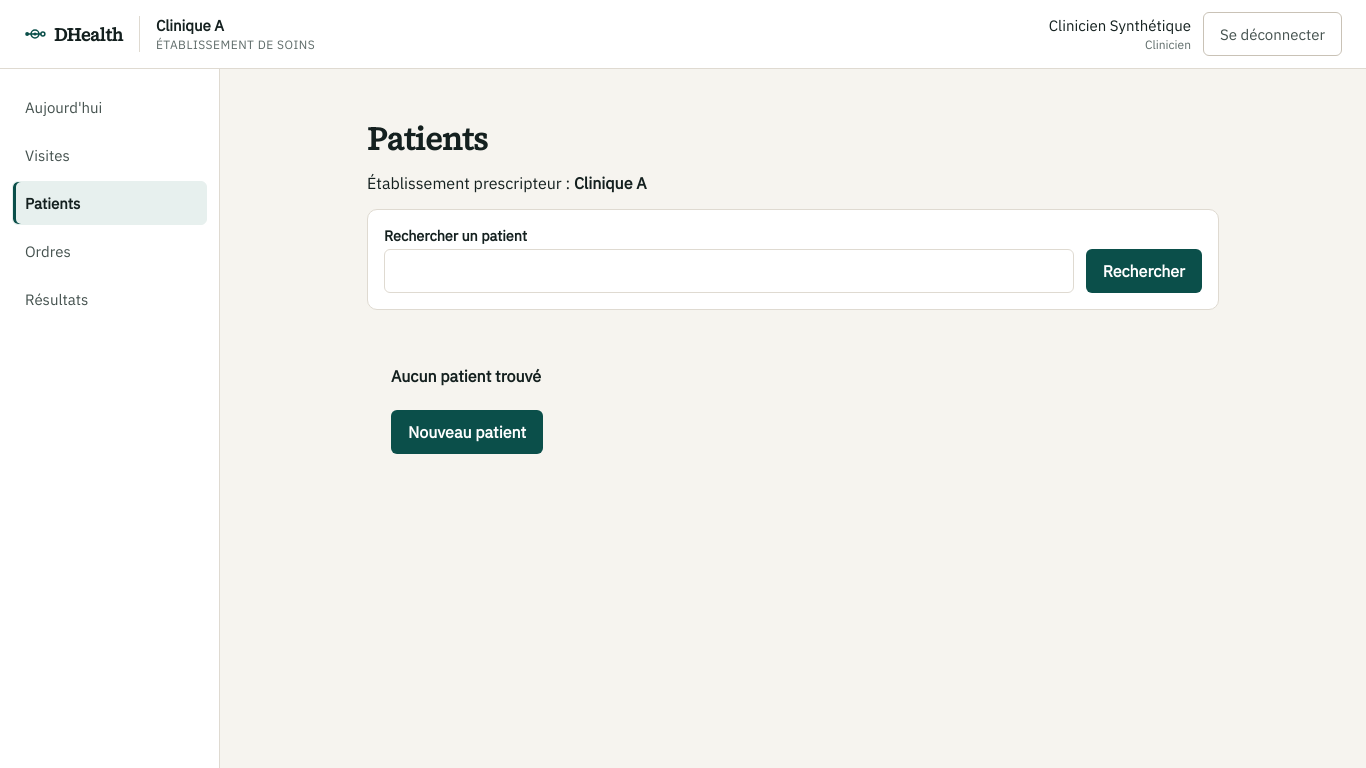
Test: Clinic native patient workflow › submits provider-local search text and renders the returned result
expect the text "Aucun patient trouvé" is shown: met, box [391, 366, 541, 386]
Type "Synthétique" into the search field labelled "Rechercher un patient" at [729, 271], box [384, 249, 1074, 293]
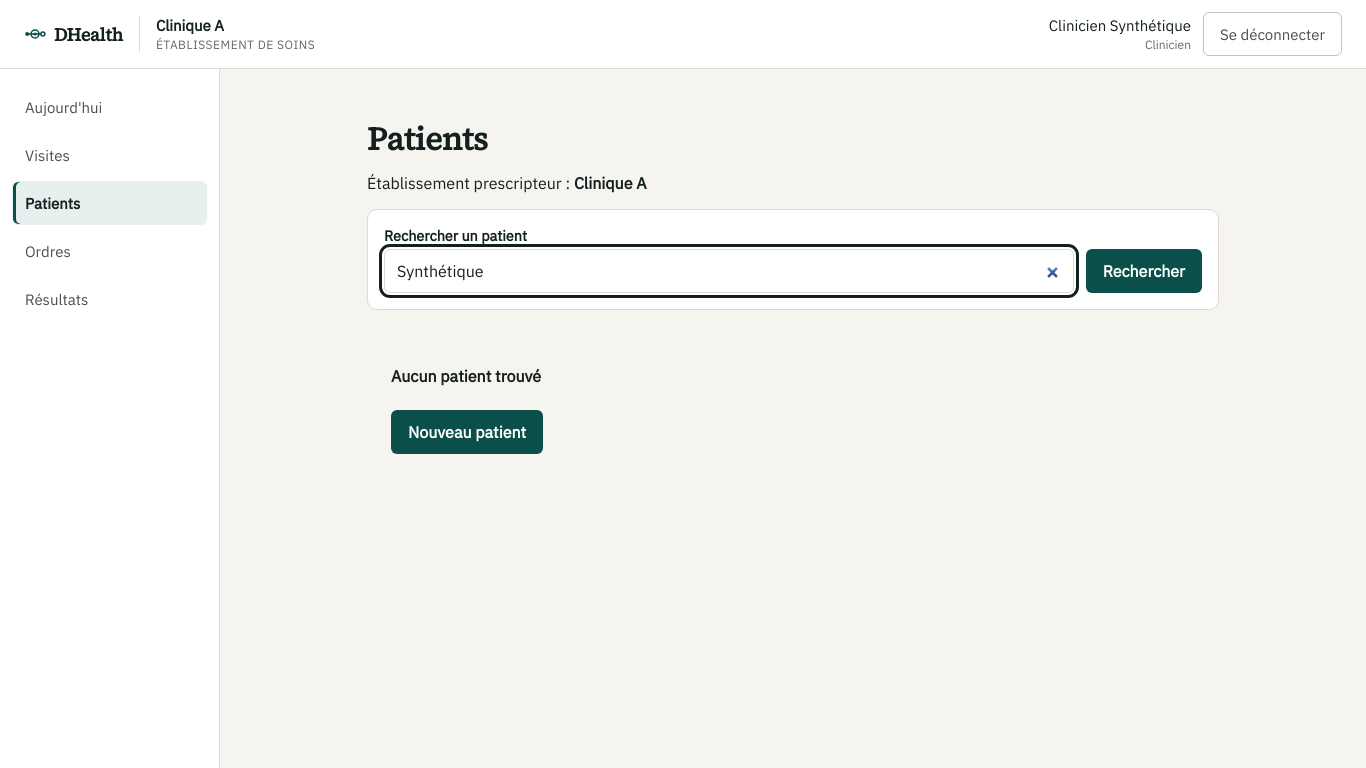
Click the button "Rechercher" at [1144, 271], box [1086, 249, 1202, 293]
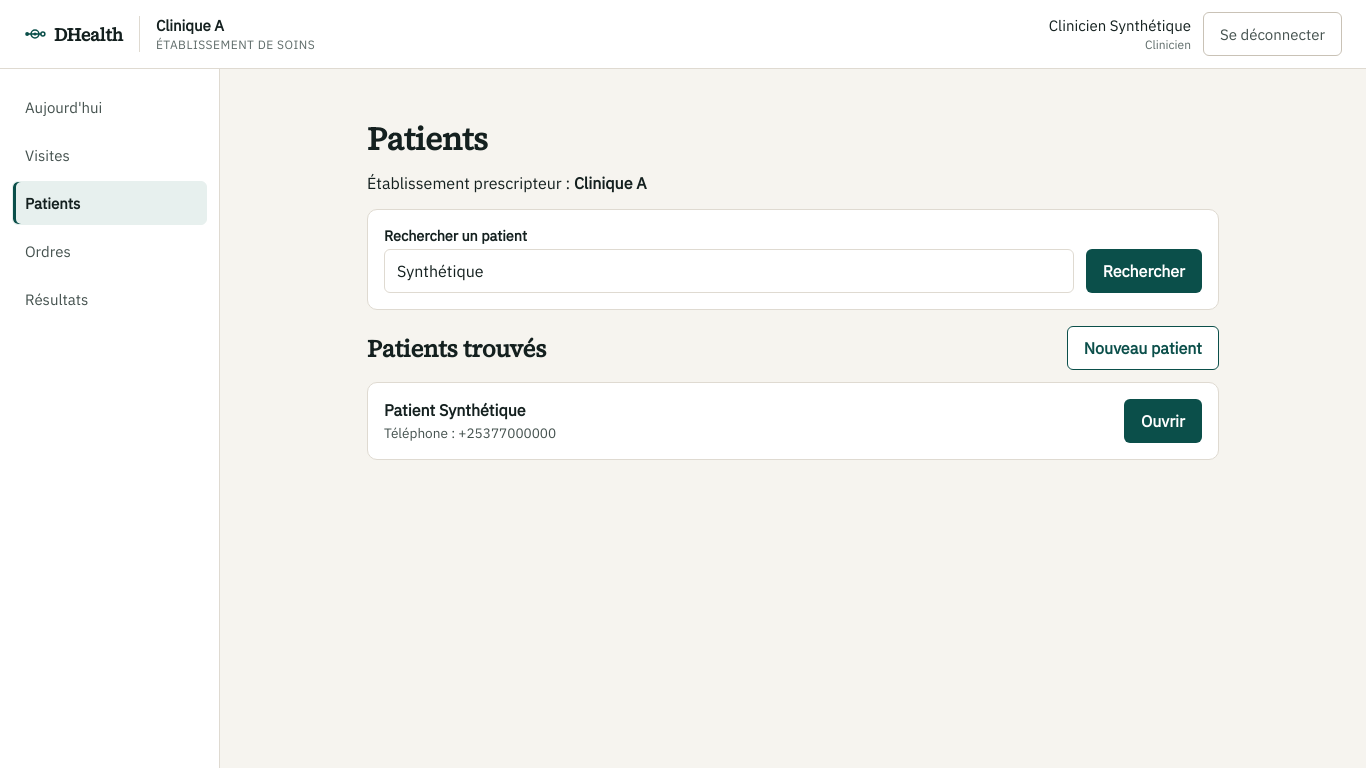
expect the text "Patient Synthétique" is shown: met, box [384, 400, 526, 420]
